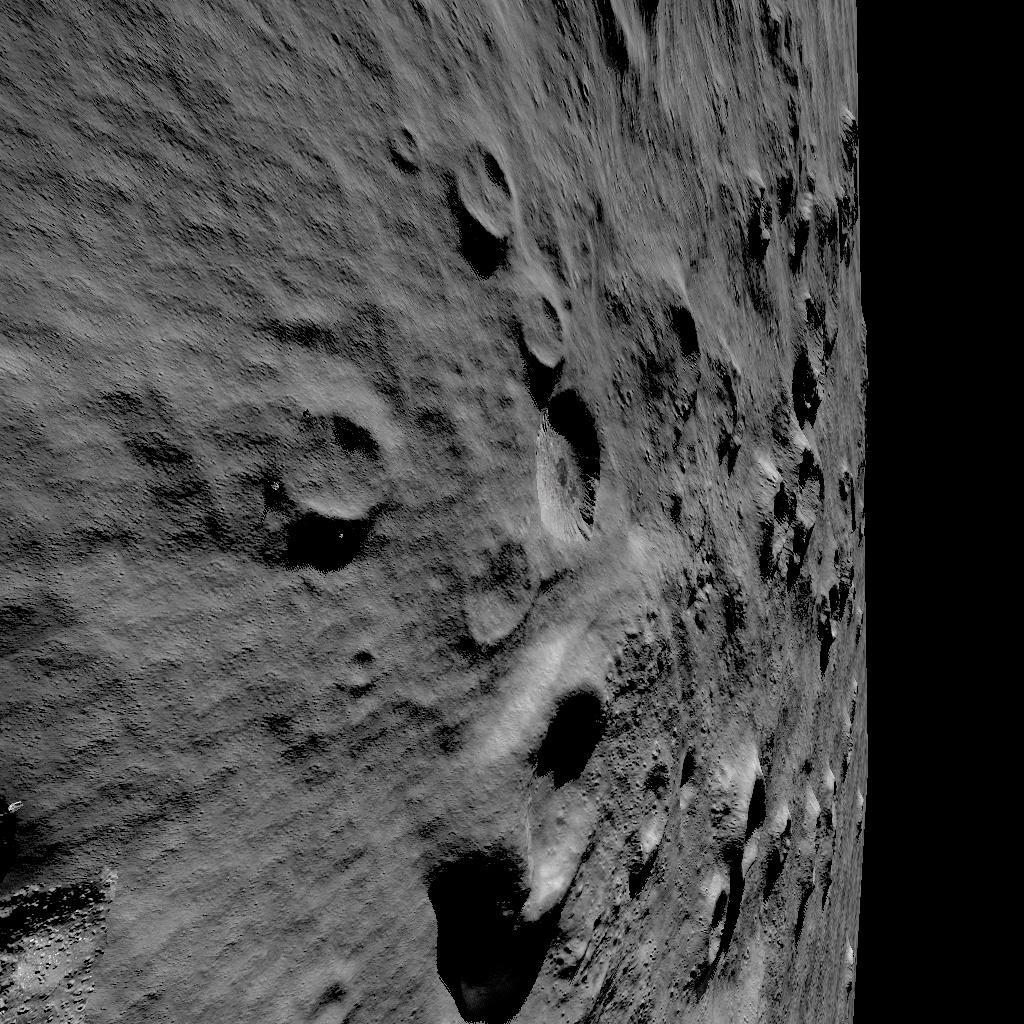Crater: (413, 625, 608, 985), (446, 138, 603, 542), (628, 722, 846, 982), (761, 302, 855, 642), (526, 0, 828, 100), (644, 292, 738, 488), (258, 410, 380, 535), (744, 138, 856, 268)
Plan surface: (0, 0, 386, 395), (54, 565, 370, 1024), (0, 422, 198, 542)
